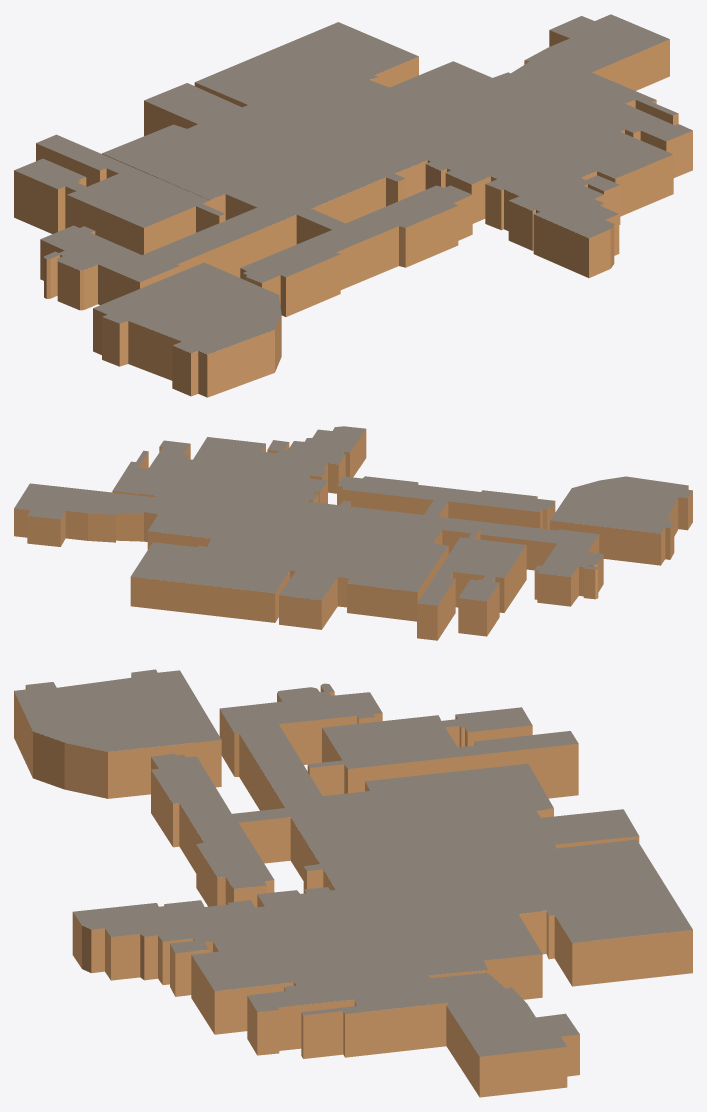
The model's file is buildings-transformed.glb.
3 views of the same model, one above another, from view 1: azimuth 30°, elevation 25°; view 2: azimuth 150°, elevation 25°; view 3: azimuth 270°, elevation 25° (orthographic). The views are drawn at different scales.
Parts seen in each view (by area): view 1: Cork University Hospital; view 2: Cork University Hospital; view 3: Cork University Hospital.
Part boxes in pixels (x1,y1,x2,y2): Cork University Hospital: (14,14,692,397); Cork University Hospital: (14,426,692,640); Cork University Hospital: (14,669,692,1097).
Size of the model in its own units: 305 by 20.2 by 229.
